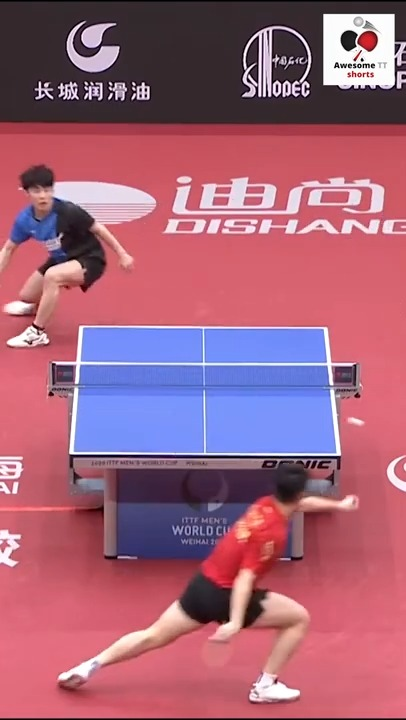Ball: (347, 414, 362, 430)
